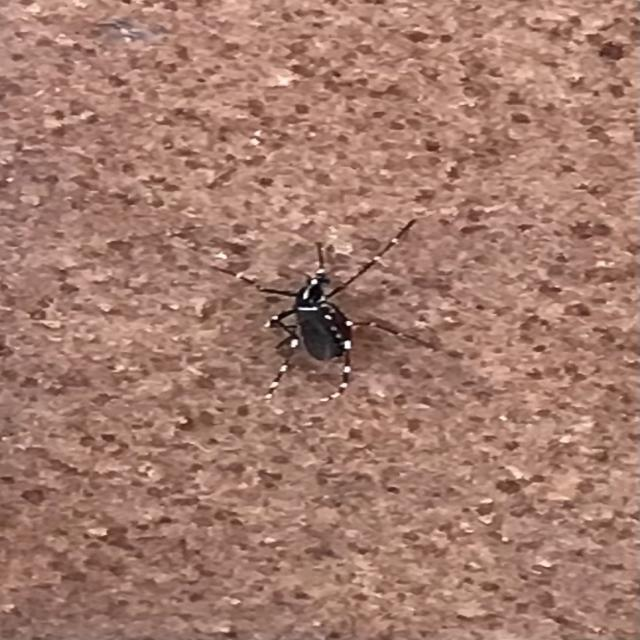albopictus: (194, 209, 461, 411)
